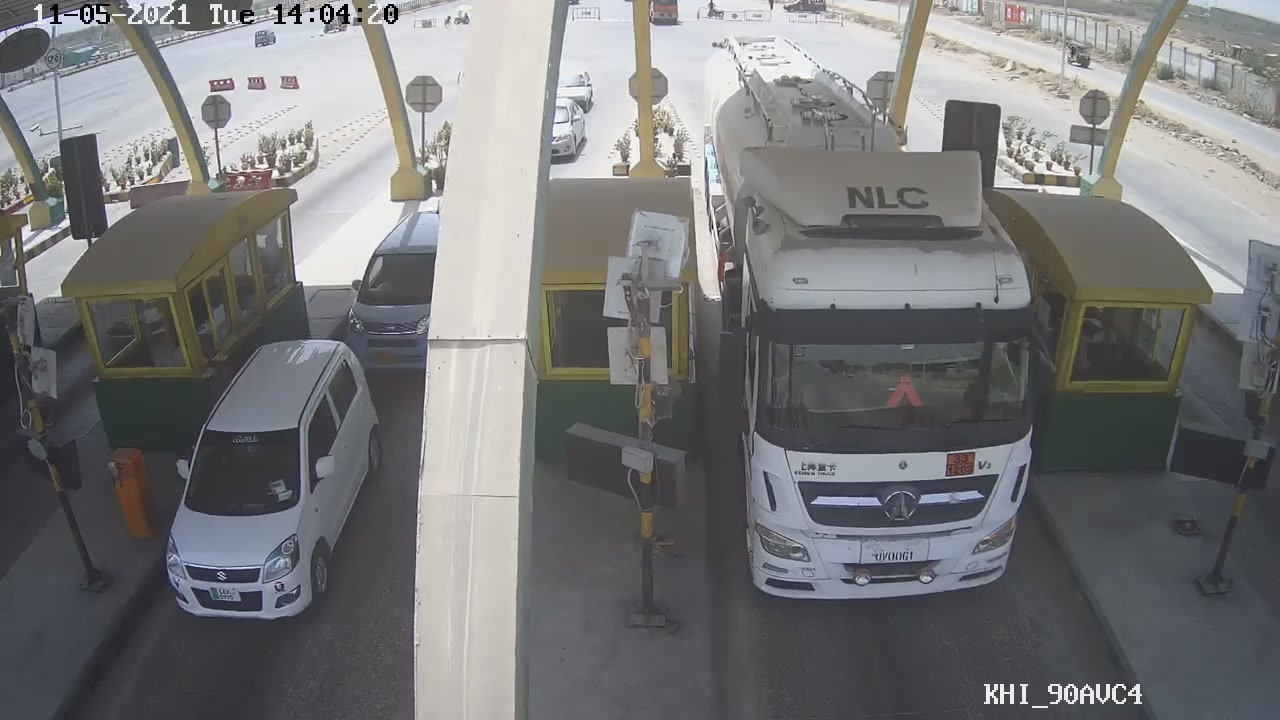F6: (704, 54, 1053, 613)
